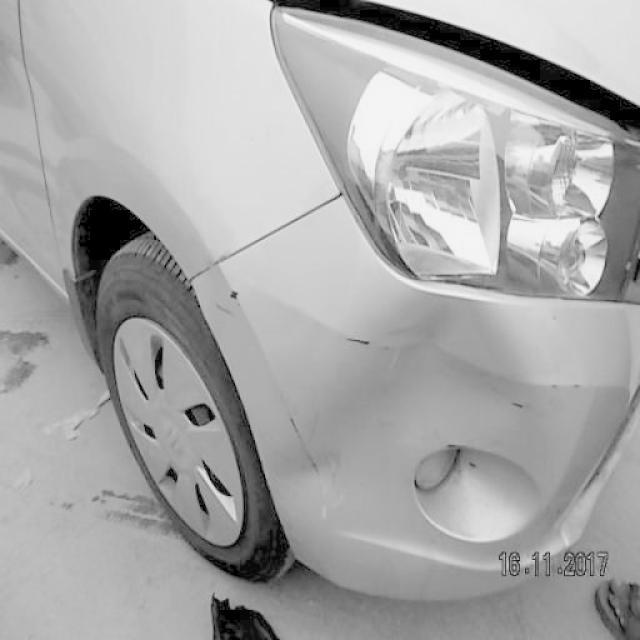car damage: (339, 310, 523, 436)
